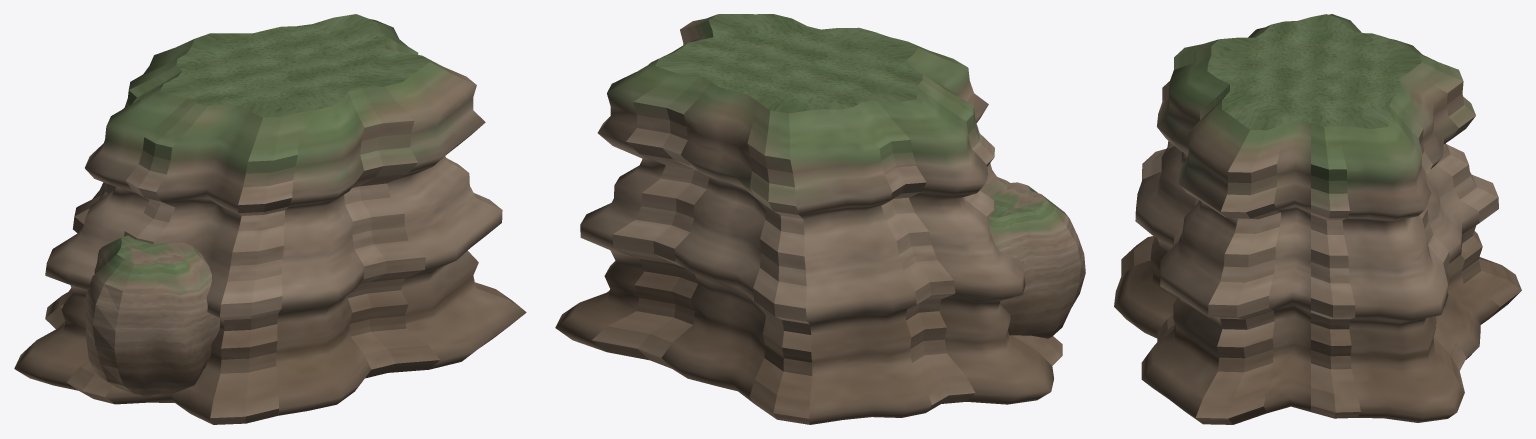
The model's file is wuling_cliff_rock.glb.
The picture shows the model from 3 angles, left to right: view 1: azimuth 30°, elevation 25°; view 2: azimuth 150°, elevation 25°; view 3: azimuth 270°, elevation 25°; orthographic projection. The views are drawn at different scales.
Parts seen in each view (by area): view 1: wuling_cliff_rock; view 2: wuling_cliff_rock; view 3: wuling_cliff_rock.
Part boxes in pixels (x1,y1,x2,y2): wuling_cliff_rock: [14, 14, 526, 424]; wuling_cliff_rock: [555, 14, 1085, 424]; wuling_cliff_rock: [1114, 14, 1521, 424].
Size of the model in its own units: 3.2 by 1.8 by 2.5.
Materials: 1 (1 with a texture image).
